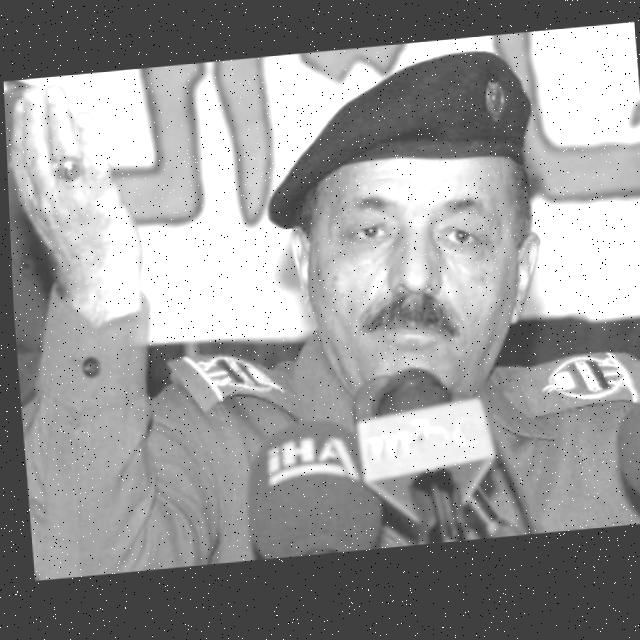face: (258, 87, 568, 433)
